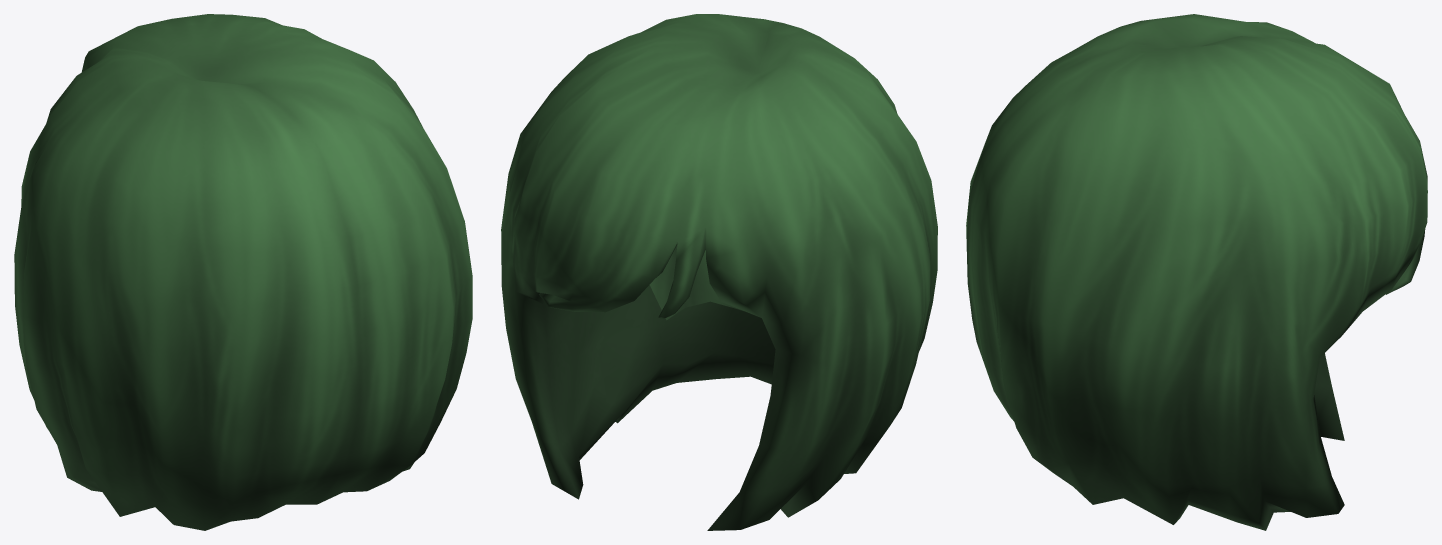
File: Hair_Female_004_textured_green.glb
3 views of the same model, side by side, from view 1: azimuth 30°, elevation 25°; view 2: azimuth 150°, elevation 25°; view 3: azimuth 270°, elevation 25° (orthographic). The views are drawn at different scales.
Visible parts, largest first — view 1: Hair_Female_004; view 2: Hair_Female_004; view 3: Hair_Female_004.
Part boxes in pixels (<box>): Hair_Female_004: <box>14,14,472,530</box>; Hair_Female_004: <box>501,14,937,530</box>; Hair_Female_004: <box>966,14,1427,530</box>.
Bounding box in the file's own units: 0.214 × 0.2309 × 0.223.
1 material, 1 textured.
